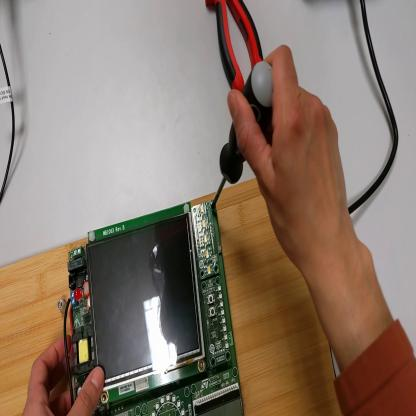hand: (224, 41, 352, 288), (22, 324, 105, 415)
low voltage board: (59, 195, 247, 416)
pliers: (207, 1, 266, 92)
screwdriver-: (212, 55, 283, 217)
working area: (2, 178, 344, 414)
